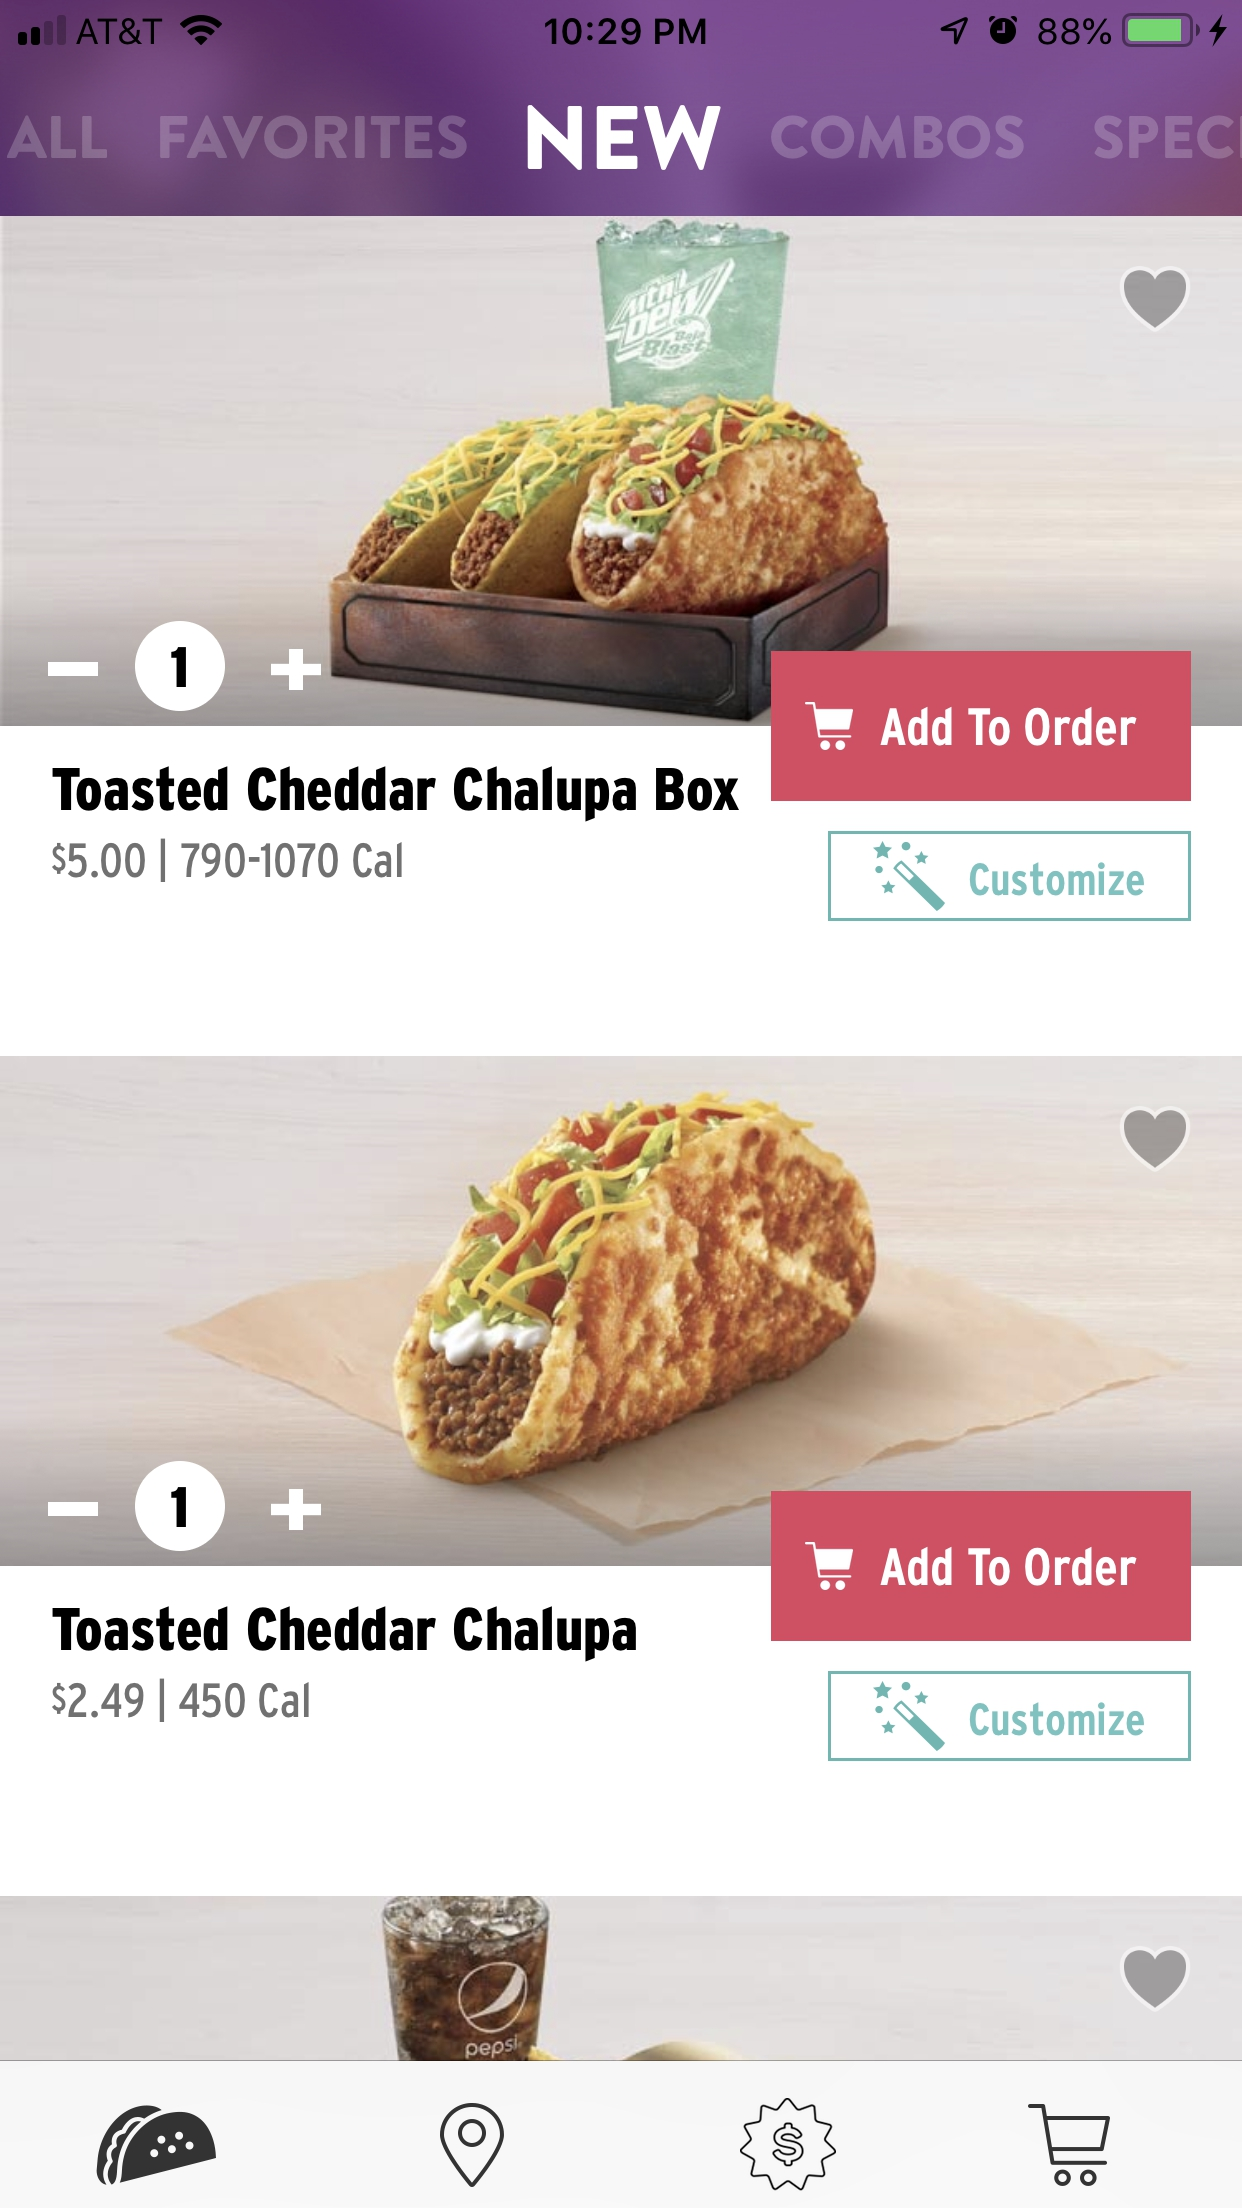Icon: (739, 2097, 837, 2191), (1027, 2103, 1112, 2187), (440, 2102, 507, 2188), (1119, 1106, 1190, 1174), (1119, 1946, 1190, 2012), (1121, 265, 1189, 331)
Image: (2, 1057, 1242, 1567), (2, 217, 1242, 726), (2, 1896, 1240, 2061), (96, 2103, 217, 2185)
Text: (52, 766, 740, 823), (52, 1604, 637, 1664), (53, 839, 403, 884), (161, 115, 469, 161), (528, 105, 720, 171), (52, 1677, 311, 1723), (770, 115, 1025, 161), (1095, 115, 1242, 161), (8, 115, 109, 161)
TextButton: (770, 651, 1192, 802), (770, 1491, 1190, 1642), (828, 1671, 1192, 1762), (828, 831, 1192, 922)
UpperTaskBar: (2, 2, 1242, 49)
